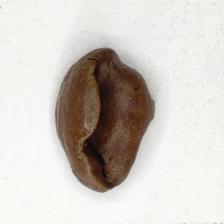NG: (82, 48, 156, 185)
